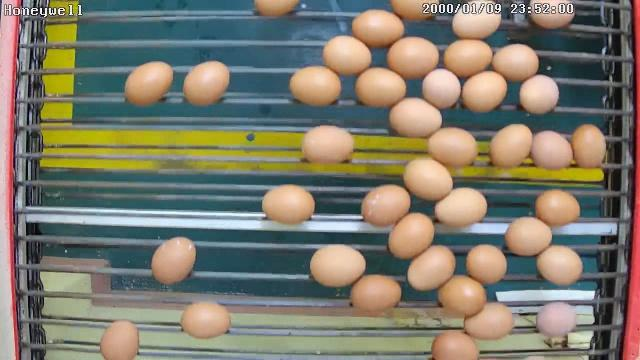egg: (308, 243, 367, 288), (260, 183, 316, 228), (122, 60, 174, 108), (298, 124, 356, 167), (353, 65, 408, 110), (385, 36, 441, 80), (432, 185, 488, 229), (406, 243, 456, 292), (358, 182, 411, 228), (150, 236, 198, 286), (387, 209, 434, 260), (288, 64, 342, 108), (348, 272, 402, 316), (182, 59, 230, 108), (426, 126, 479, 169), (388, 96, 442, 138), (402, 156, 452, 201), (321, 34, 372, 78), (350, 8, 404, 49), (179, 300, 233, 341), (460, 68, 508, 114), (461, 300, 516, 340), (534, 244, 584, 287), (487, 122, 532, 169), (442, 37, 492, 79), (436, 274, 486, 316), (448, 1, 501, 40), (504, 216, 553, 258), (490, 42, 540, 82), (96, 318, 143, 360), (533, 187, 581, 228), (530, 128, 573, 171), (465, 244, 508, 286), (421, 66, 462, 110), (518, 73, 560, 115), (571, 123, 608, 170), (536, 300, 578, 340)
